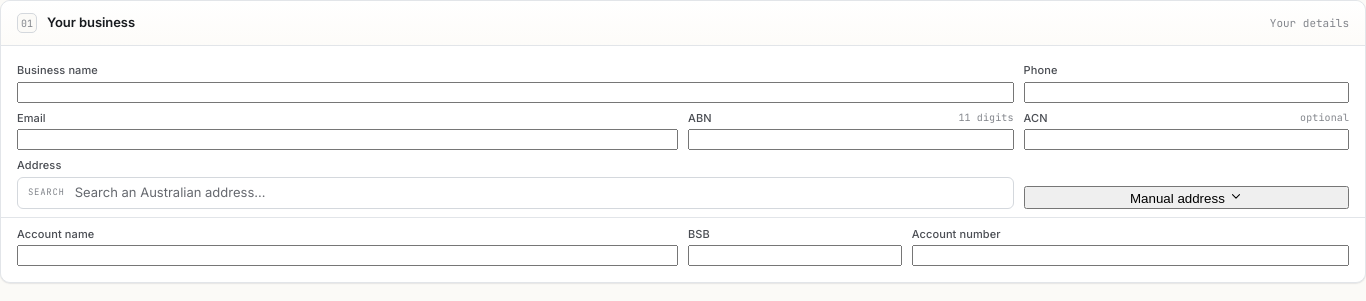
Scenario: BusinessDetailsForm › formats ACN as it is typed
Type "000000019" into the field labelled "ACN".
click(1186, 140); type("000000019")  # box [1024,129,1349,150]
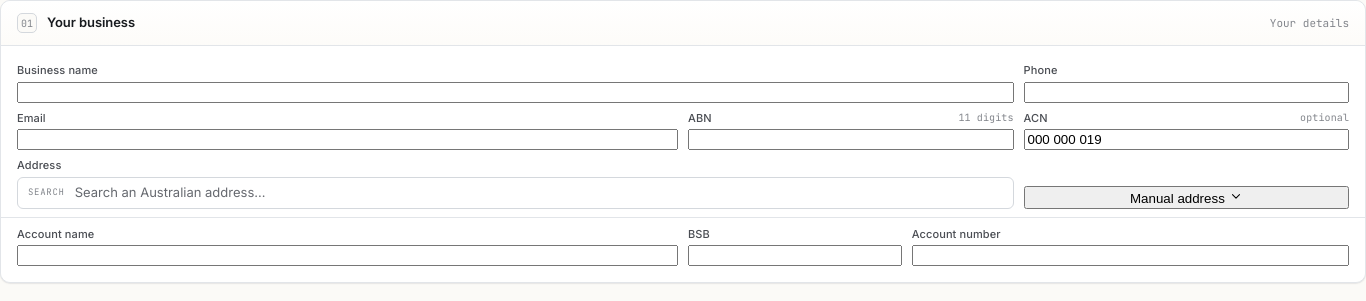
expect the field labelled "ACN" holds "000 000 019": met, box [1024,129,1349,150]
